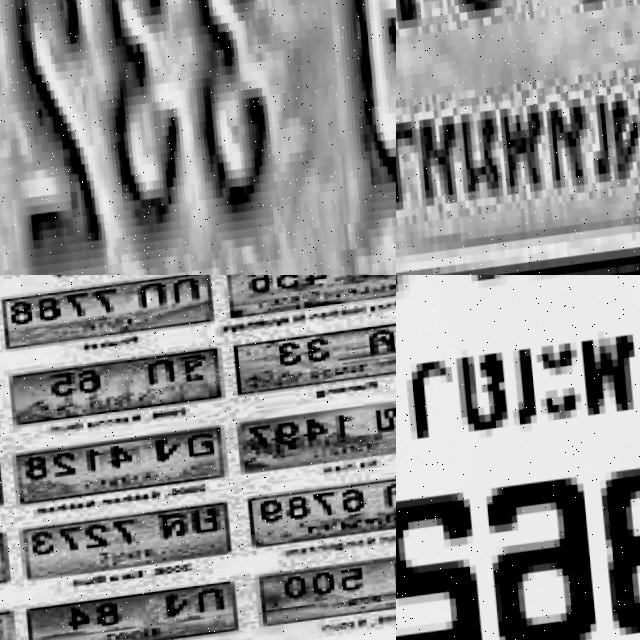license-plate: (0, 0, 396, 275), (396, 275, 640, 640), (396, 0, 640, 275), (1, 348, 227, 432), (3, 427, 226, 511), (13, 507, 235, 585), (0, 275, 214, 353), (225, 395, 396, 485), (14, 580, 242, 640), (231, 322, 396, 401), (247, 473, 396, 556), (254, 549, 396, 635), (220, 275, 396, 326)
